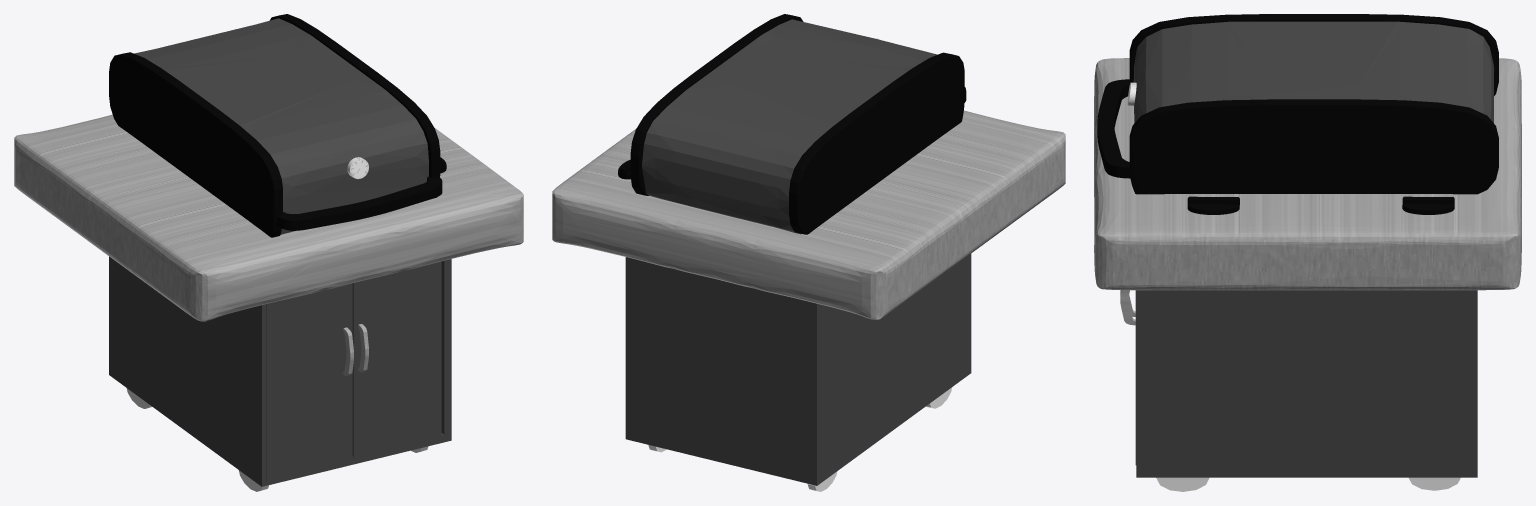
Rendered from sh-contrib-grill-ngauge.glb.
The picture shows the model from 3 angles, left to right: view 1: azimuth 30°, elevation 25°; view 2: azimuth 150°, elevation 25°; view 3: azimuth 270°, elevation 25°; orthographic projection. The views are drawn at different scales.
Visible parts, largest first — view 1: PolyMesh_2, PolyMesh_1, PolyMesh_4; view 2: PolyMesh_2, PolyMesh_1, PolyMesh_4; view 3: PolyMesh_2, PolyMesh_1, PolyMesh_4, PolyMesh_6.
Part boxes in pixels (bbox=[...]): PolyMesh_2: bbox=[109, 18, 451, 486]; PolyMesh_1: bbox=[14, 114, 523, 376]; PolyMesh_4: bbox=[109, 14, 446, 237]; PolyMesh_2: bbox=[625, 19, 971, 485]; PolyMesh_1: bbox=[552, 110, 1065, 319]; PolyMesh_4: bbox=[618, 14, 966, 234]; PolyMesh_2: bbox=[1133, 21, 1494, 477]; PolyMesh_1: bbox=[1094, 58, 1521, 325]; PolyMesh_4: bbox=[1097, 14, 1498, 214]; PolyMesh_6: bbox=[1156, 477, 1460, 491].
Size of the model in its own units: 1 by 1 by 1.
5 materials, 2 textured.
